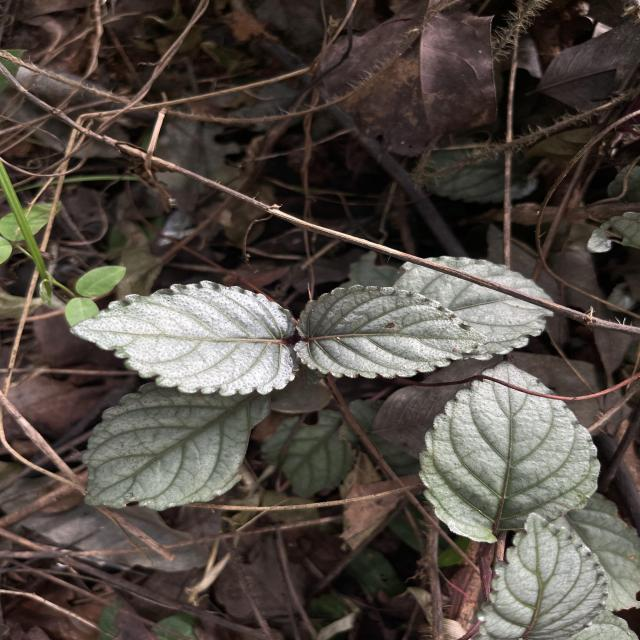Hemigraphis colorata: (417, 358, 602, 546), (64, 278, 298, 400), (78, 379, 274, 514), (292, 282, 494, 380), (471, 509, 612, 640)
